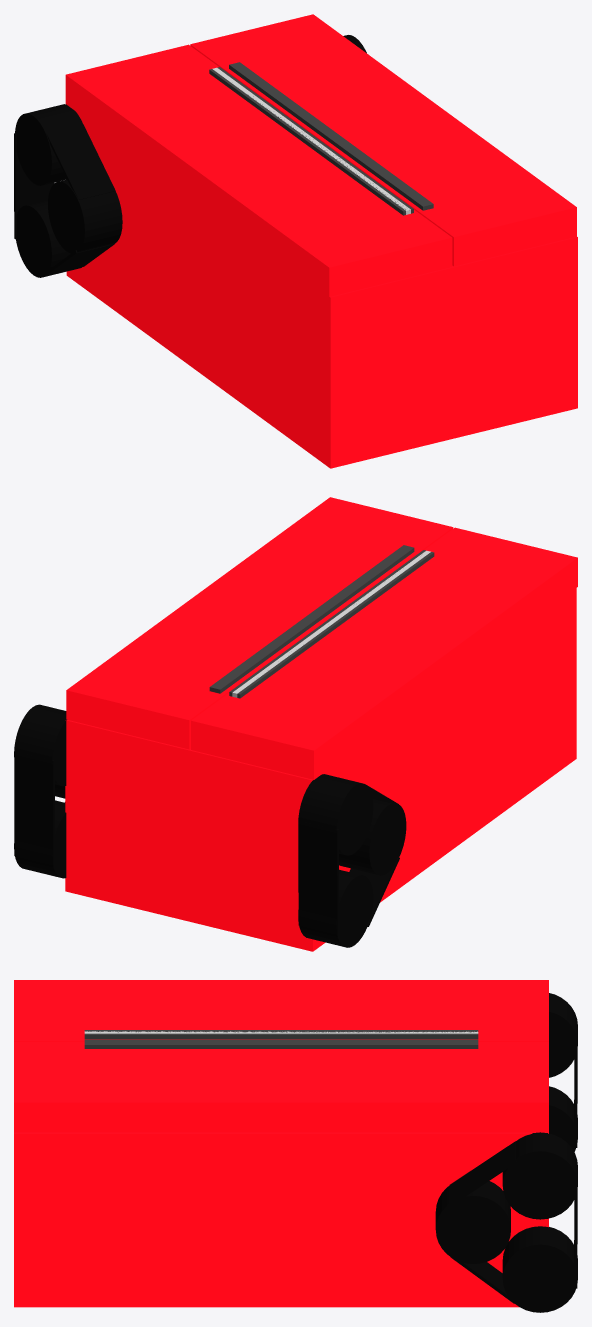
File: big_fridge.glb
3 renders of one model, top to bottom at view 1: azimuth 30°, elevation 25°; view 2: azimuth 150°, elevation 25°; view 3: azimuth 270°, elevation 25°, orthographic.
Visible parts, largest first — view 1: Cube.029, Cube.026, Cube.025, Cylinder.004, Cylinder.006, Cube.030, Cube.048, Cylinder.005, Cube.028, Cube.047, Cube.027, Cube.049; view 2: Cube.029, Cube.026, Cube.025, Cylinder.006, Cube.047, Cube.046, Cylinder.005, Cube.030, Cylinder.001, Cylinder.004, Cube.028, Cylinder.002 (+2 smaller); view 3: Cube.029, Cube.025, Cube.026, Cylinder.002, Cylinder.001, Cylinder.003, Cube.030, Cube.028, Cylinder.006, Cube.045, Cylinder.005, Cube.027 (+1 smaller).
Part boxes in pixels (left/top/right/bottom): Cube.029: left=66, top=112, right=577, bottom=468; Cube.026: left=65, top=44, right=452, bottom=296; Cube.025: left=190, top=14, right=576, bottom=266; Cylinder.004: left=48, top=179, right=122, bottom=253; Cylinder.006: left=15, top=104, right=82, bottom=185; Cube.030: left=229, top=62, right=433, bottom=210; Cube.048: left=46, top=124, right=115, bottom=199; Cylinder.005: left=16, top=200, right=81, bottom=277; Cube.028: left=209, top=67, right=413, bottom=215; Cube.047: left=14, top=133, right=54, bottom=239; Cube.027: left=212, top=67, right=410, bottom=214; Cube.049: left=44, top=243, right=114, bottom=275; Cube.029: left=65, top=588, right=576, bottom=951; Cube.026: left=191, top=527, right=577, bottom=779; Cube.025: left=66, top=497, right=453, bottom=749; Cylinder.006: left=298, top=774, right=373, bottom=855; Cube.047: left=298, top=821, right=339, bottom=934; Cube.046: left=14, top=751, right=54, bottom=865; Cylinder.005: left=298, top=869, right=373, bottom=947; Cube.030: left=209, top=545, right=414, bottom=693; Cylinder.001: left=14, top=704, right=66, bottom=786; Cylinder.004: left=339, top=799, right=406, bottom=875; Cube.028: left=229, top=550, right=434, bottom=698; Cylinder.002: left=14, top=800, right=66, bottom=878; Cube.029: left=14, top=1132, right=548, bottom=1307; Cube.025: left=14, top=1041, right=548, bottom=1132; Cube.026: left=14, top=980, right=548, bottom=1041; Cylinder.002: left=502, top=1226, right=577, bottom=1312; Cylinder.001: left=502, top=1132, right=577, bottom=1219; Cylinder.003: left=435, top=1181, right=510, bottom=1263; Cube.030: left=84, top=1039, right=478, bottom=1048; Cube.028: left=84, top=1030, right=478, bottom=1039; Cylinder.006: left=549, top=993, right=577, bottom=1077; Cube.045: left=449, top=1141, right=516, bottom=1205; Cylinder.005: left=549, top=1086, right=577, bottom=1151; Cube.027: left=84, top=1031, right=478, bottom=1033.
Bounding box in the file's own units: 5.3 × 3.21 × 7.88.
